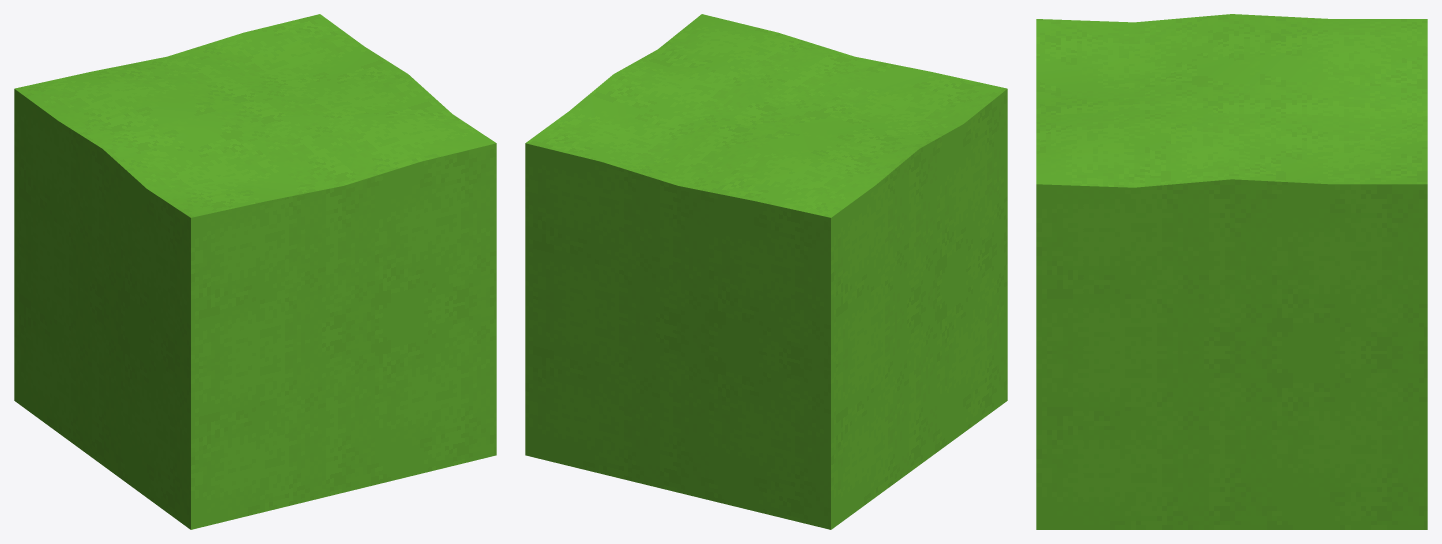
File: Grass1.glb
3 views of the same model, side by side, from view 1: azimuth 30°, elevation 25°; view 2: azimuth 150°, elevation 25°; view 3: azimuth 270°, elevation 25° (orthographic). The views are drawn at different scales.
Parts seen in each view (by area): view 1: Cube.032; view 2: Cube.032; view 3: Cube.032.
Boxes of the visible parts, x1,y1,x2,y2 form: Cube.032: (14, 14, 496, 529); Cube.032: (525, 14, 1007, 529); Cube.032: (1036, 14, 1427, 529).
Bounding box in the file's own units: 8 × 7.96 × 8.
Materials: 1 (1 with a texture image).
